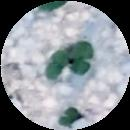Basil: (68, 41, 93, 74), (50, 50, 66, 79)
